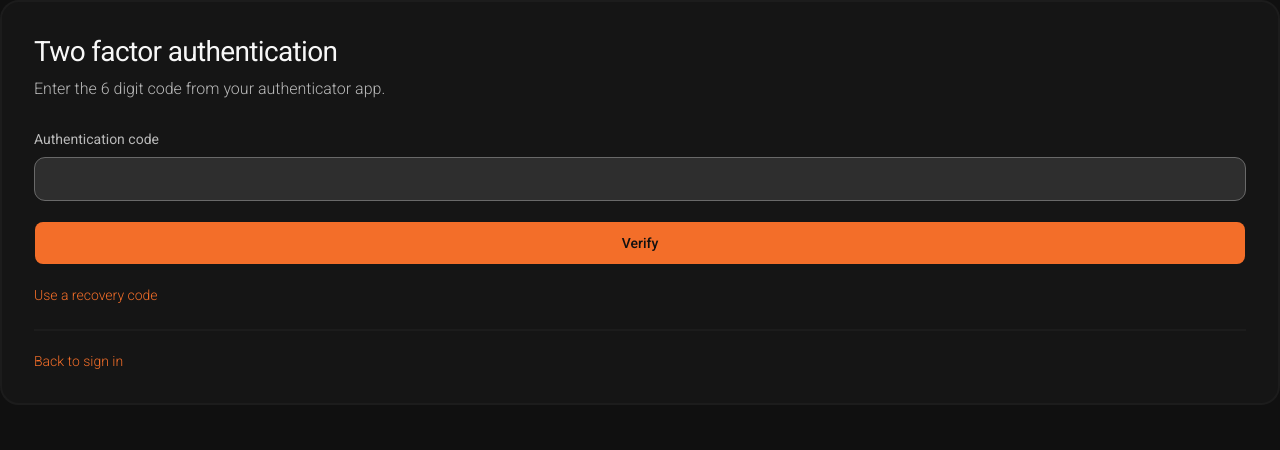
TwoFactorChallengePage › shows a refused code under the field
This screenshot has width=1280, height=450.
In the field labelled "Authentication code": {"x": 640, "y": 179} [34, 157, 1246, 201], type "000000"
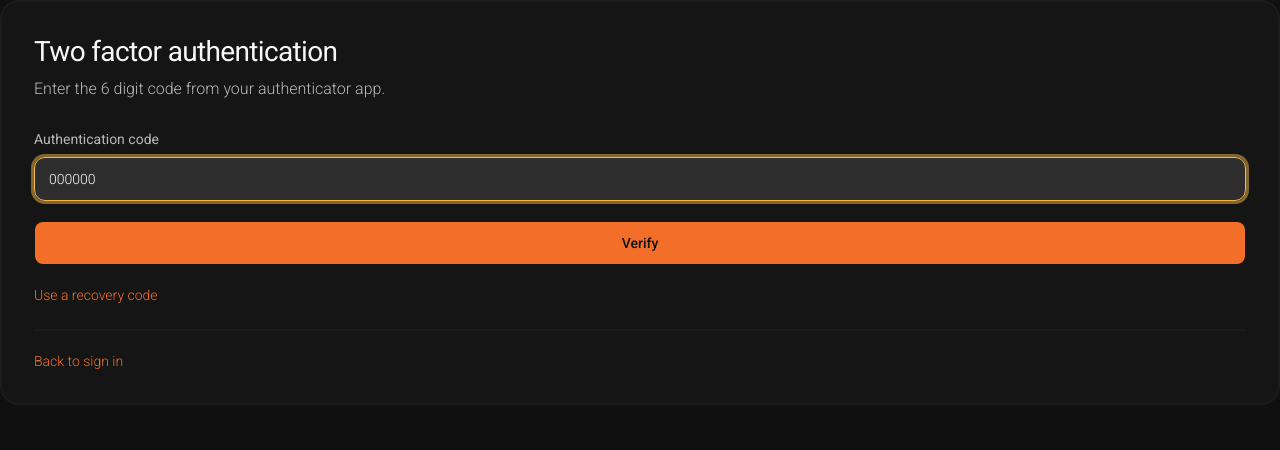
Click the button "Verify": {"x": 640, "y": 243} [34, 221, 1246, 265]
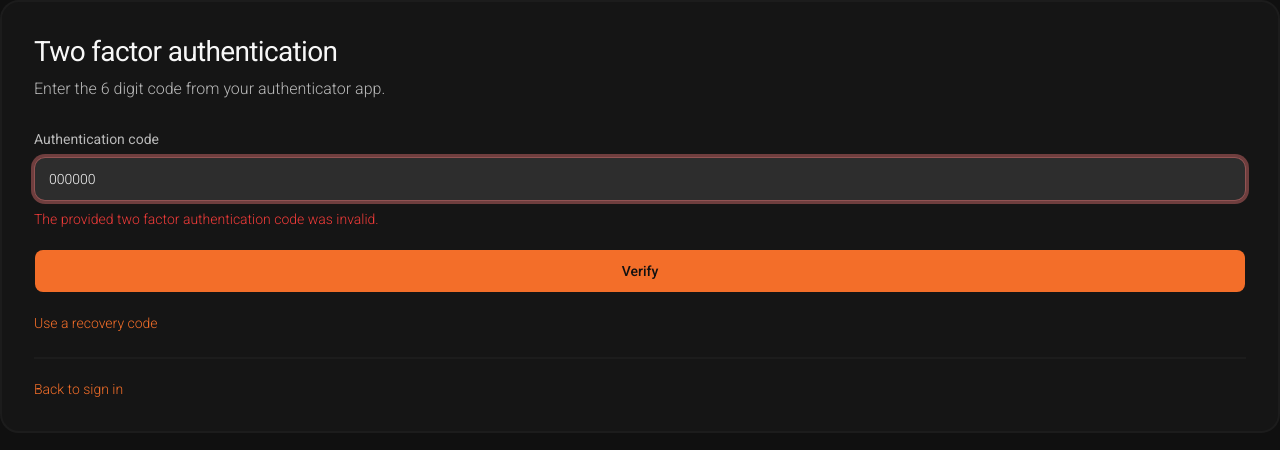
Expected: the text "The provided two factor authentication code was invalid." is shown, [34, 211, 379, 227]
